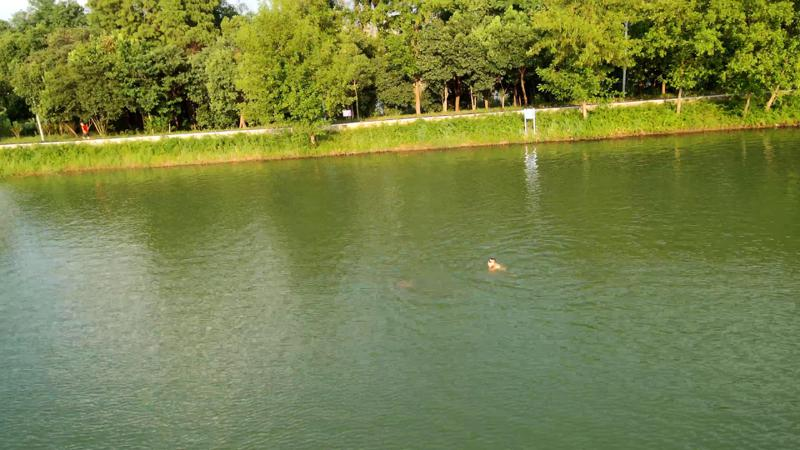passerby: (76, 118, 92, 140)
swimmers: (484, 255, 509, 274)
